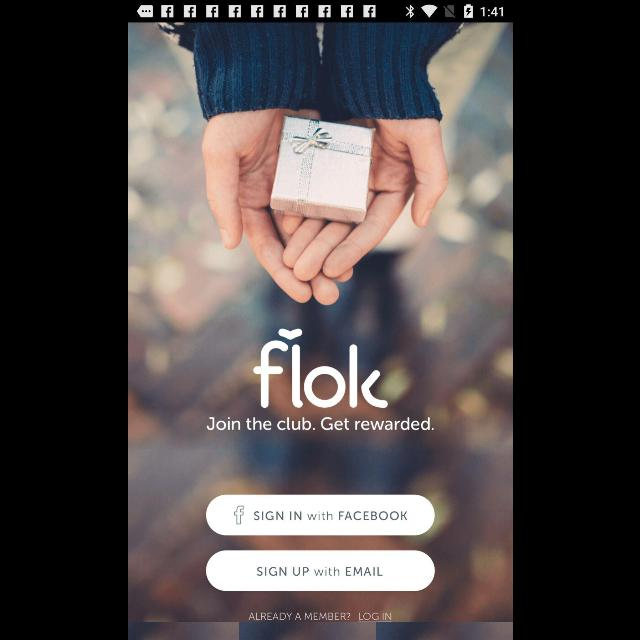backgroundimage: (128, 22, 512, 640)
image: (252, 329, 388, 409)
text: (205, 417, 433, 431), (248, 612, 350, 620), (357, 612, 391, 622)
textbutton: (206, 494, 434, 536), (206, 550, 434, 592)
uppertaskbar: (128, 1, 512, 23)
